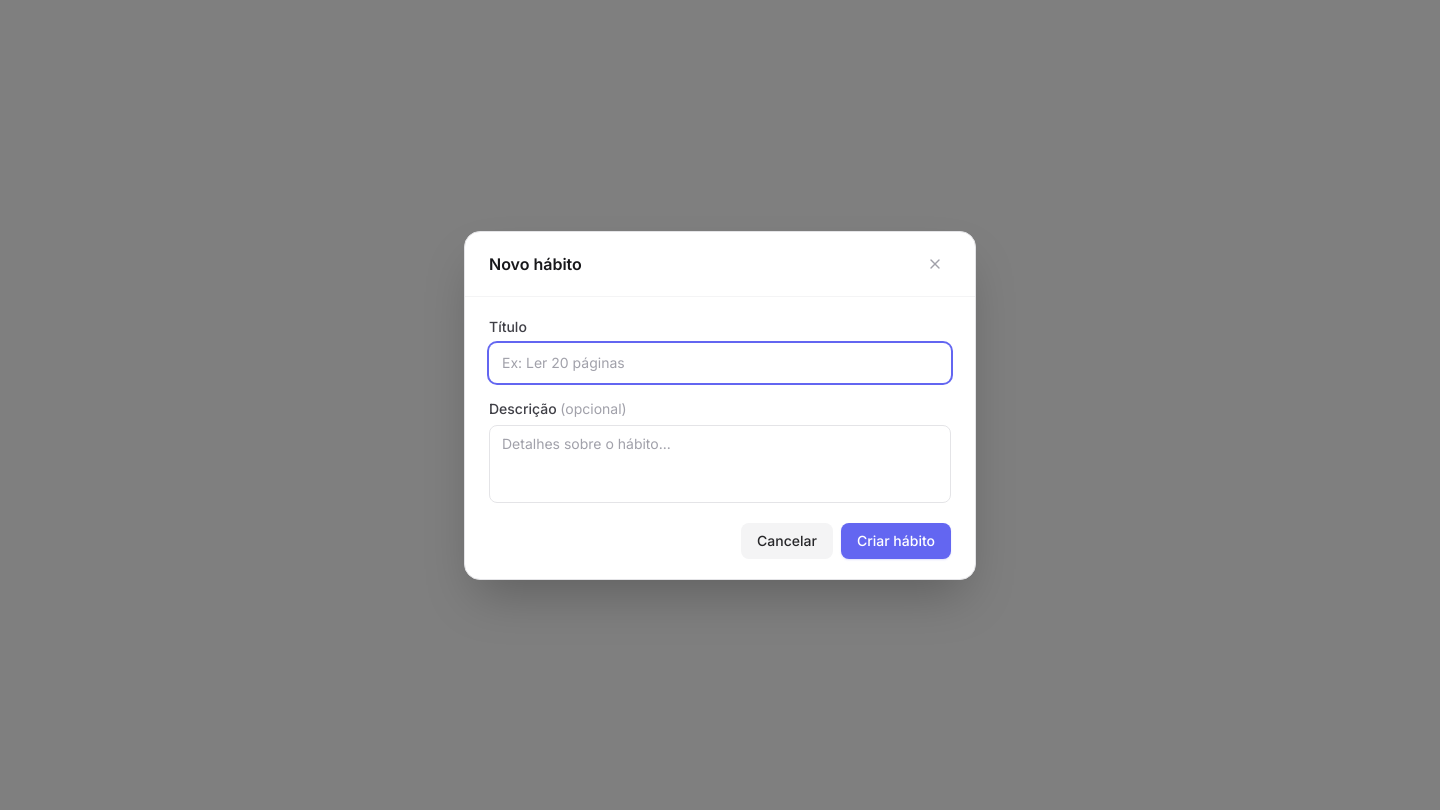
it: HabitFormModal › não submete quando o título está vazio e mostra o erro de validação
Click the button "Criar hábito" at (896, 540), box [841,522,951,558]
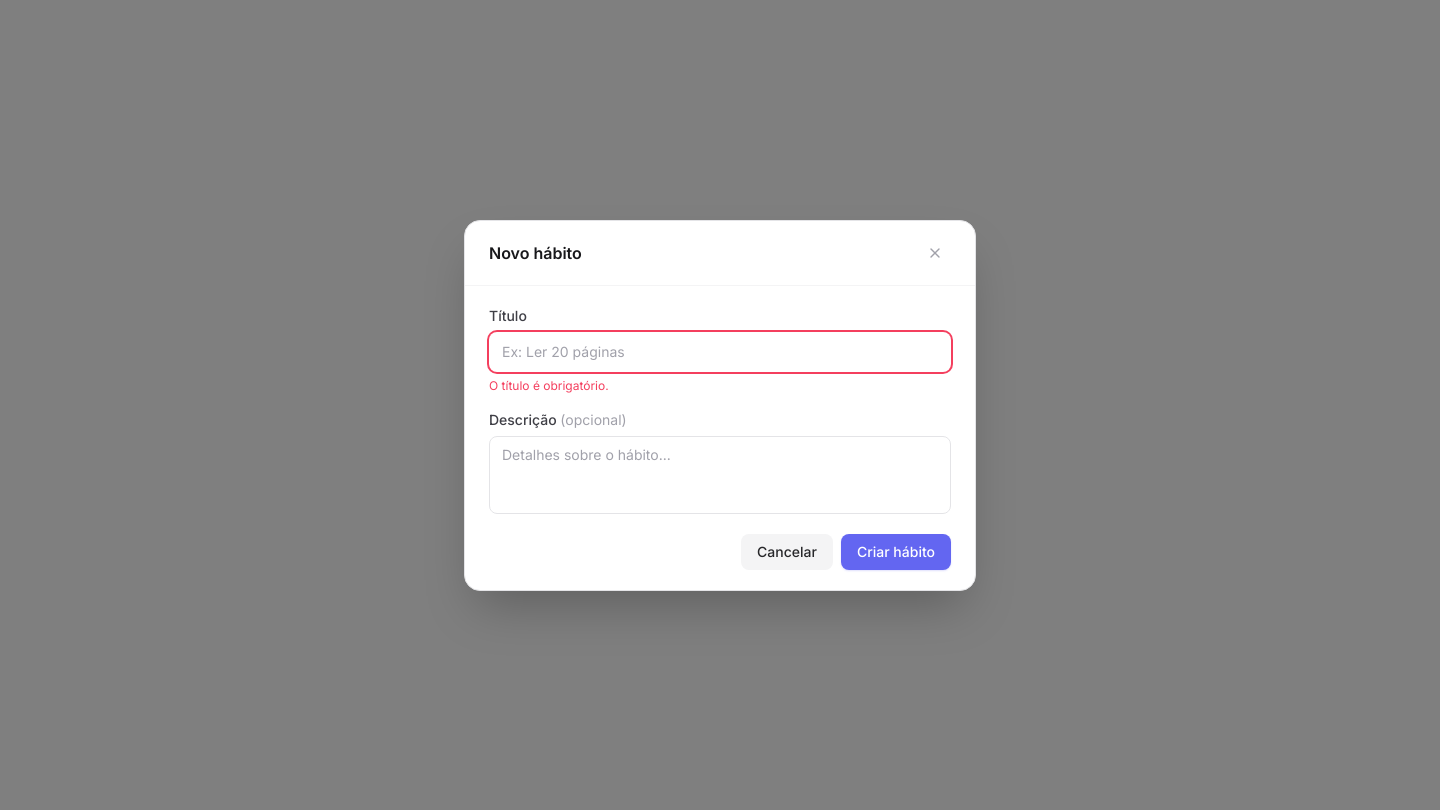
Now the text "O título é obrigatório." is shown, box [489,378,609,392]
